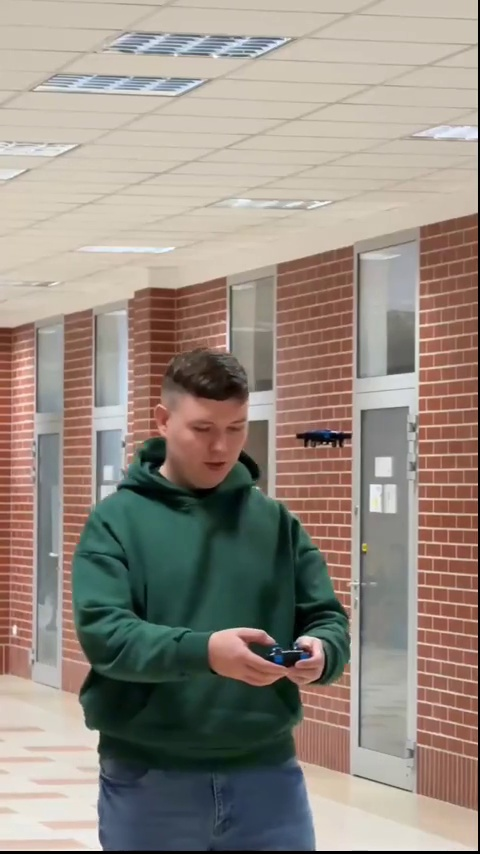drone: (296, 424, 351, 453)
no vest: (77, 350, 345, 849)
